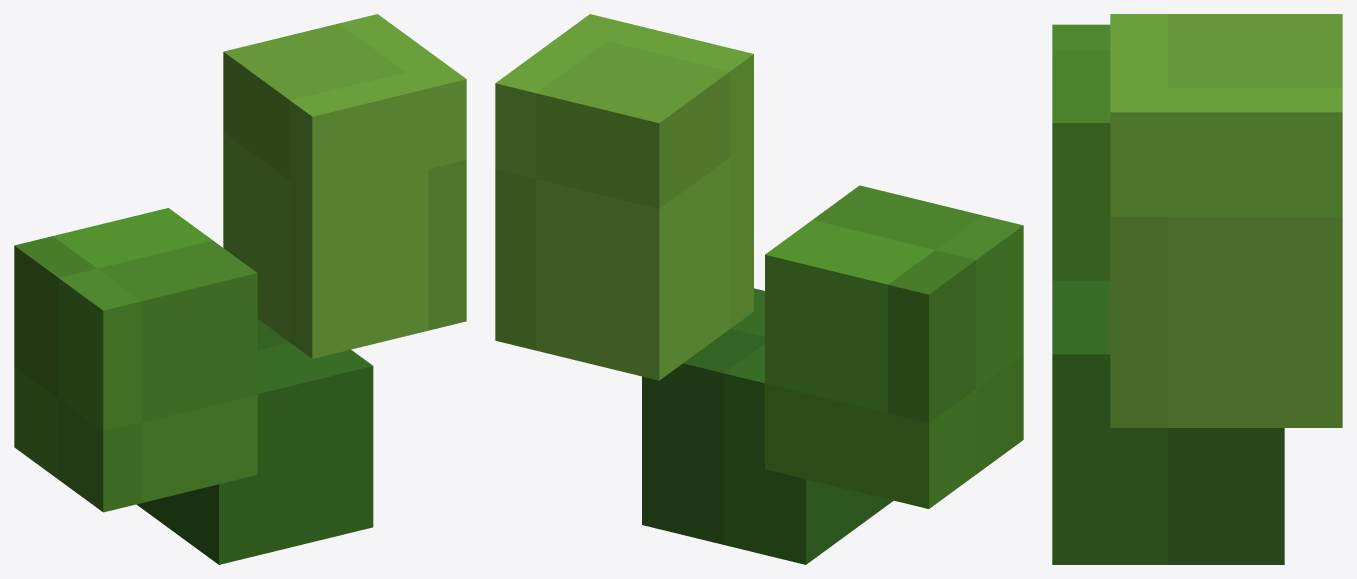
The model's file is SM_VMF_Detail_GrassTuft.glb.
3 views of the same model, side by side, from view 1: azimuth 30°, elevation 25°; view 2: azimuth 150°, elevation 25°; view 3: azimuth 270°, elevation 25° (orthographic). The views are drawn at different scales.
Visible parts, largest first — view 1: SM_VMF_Detail_GrassTuft_Geo; view 2: SM_VMF_Detail_GrassTuft_Geo; view 3: SM_VMF_Detail_GrassTuft_Geo.
Part boxes in pixels (x1,y1,x2,y2): SM_VMF_Detail_GrassTuft_Geo: (14, 14, 466, 564); SM_VMF_Detail_GrassTuft_Geo: (495, 14, 1023, 564); SM_VMF_Detail_GrassTuft_Geo: (1052, 14, 1342, 564).
Bounding box in the file's own units: 0.2 × 0.2 × 0.1.
Materials: 1 (1 with a texture image).
